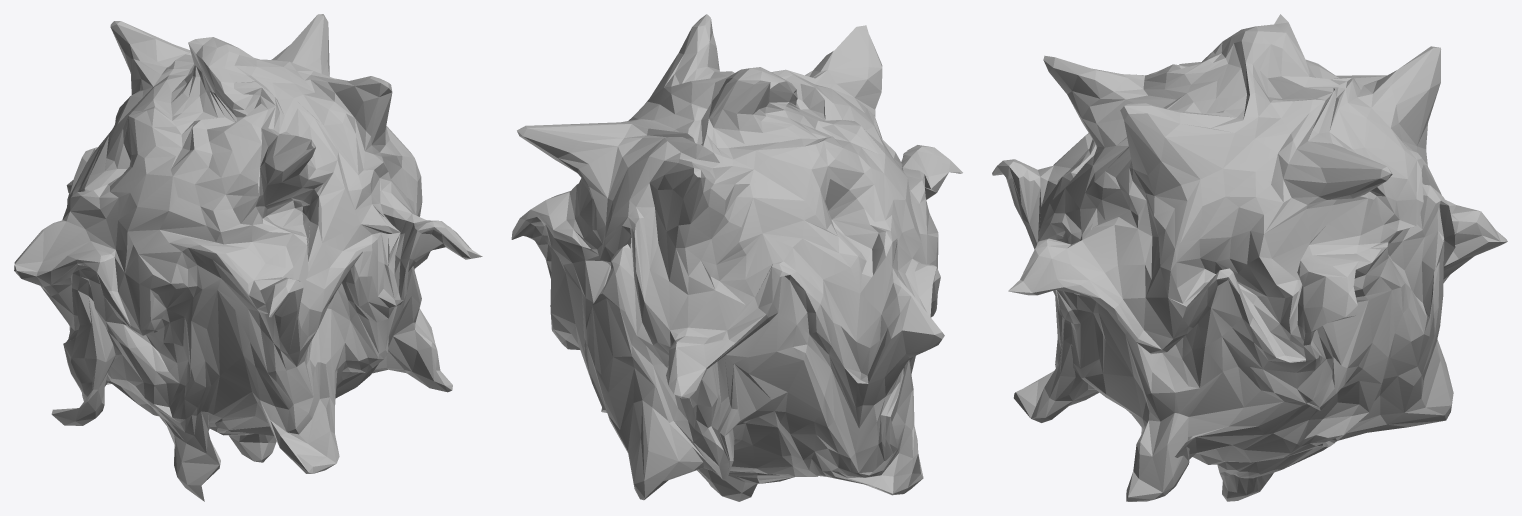
The model's file is deforme.obj.
The picture shows the model from 3 angles, left to right: view 1: azimuth 30°, elevation 25°; view 2: azimuth 150°, elevation 25°; view 3: azimuth 270°, elevation 25°; orthographic projection. The views are drawn at different scales.
Visible parts, largest first — view 1: Kugel_4; view 2: Kugel_4; view 3: Kugel_4.
Part boxes in pixels (left/top/right/bottom): Kugel_4: left=14, top=14, right=482, bottom=501; Kugel_4: left=511, top=14, right=962, bottom=501; Kugel_4: left=992, top=14, right=1507, bottom=501.
Size of the model in its own units: 39.06 by 41.17 by 41.77.
1 material, 1 textured.
